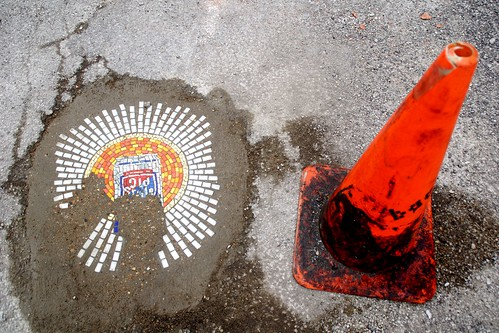traffic cone: (295, 30, 479, 305)
